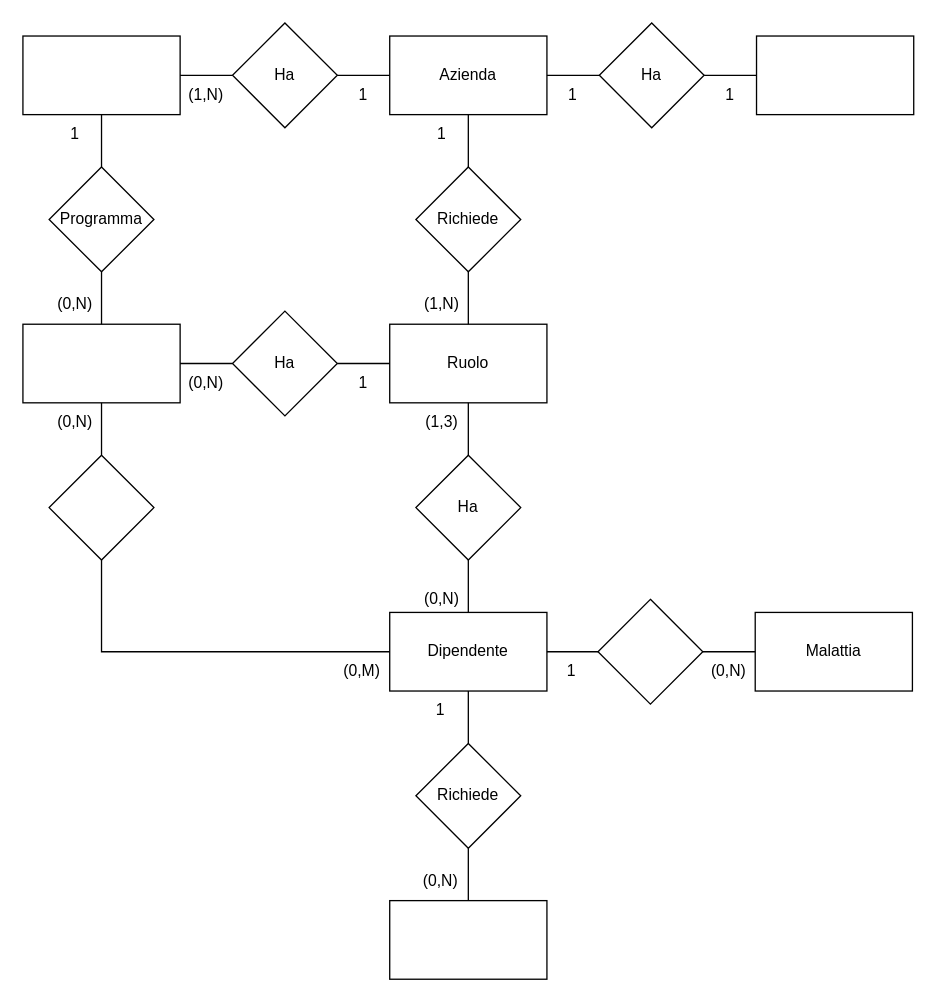
Some shapes in this 937 by 1002 pixel diagram are drawn without their labels. Here are the shapes that lost their labels. From the top down, the centre of each, then its label:
the point at 101,75: Sede
the point at 834,75: Orario
the point at 101,363: Turno
the point at 101,507: Svolge
the point at 650,651: Inserisce
the point at 467,939: Ferie
